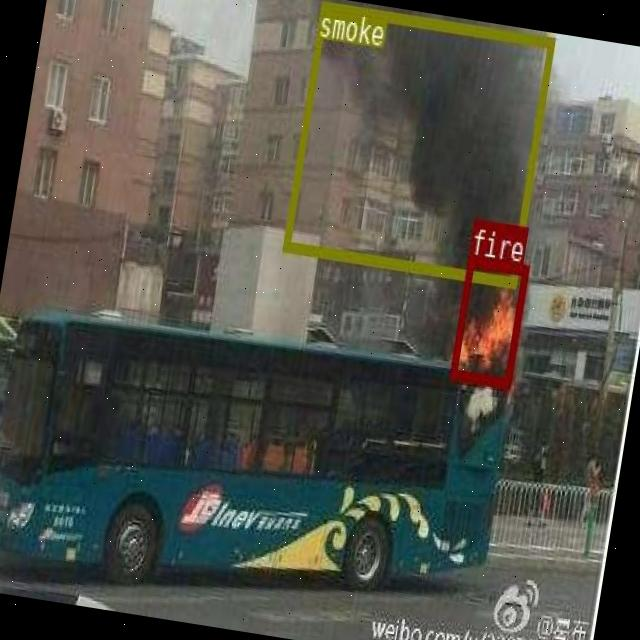fire: (450, 254, 530, 386)
smoke: (281, 0, 554, 287)
